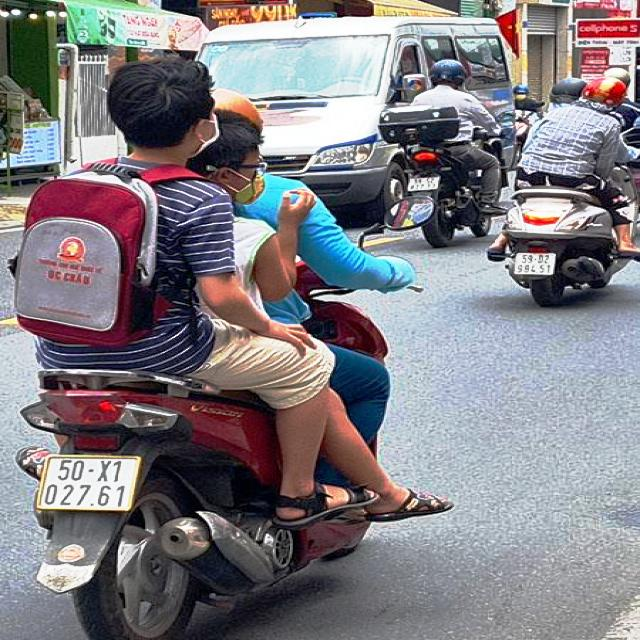license_plate: (40, 457, 141, 512)
